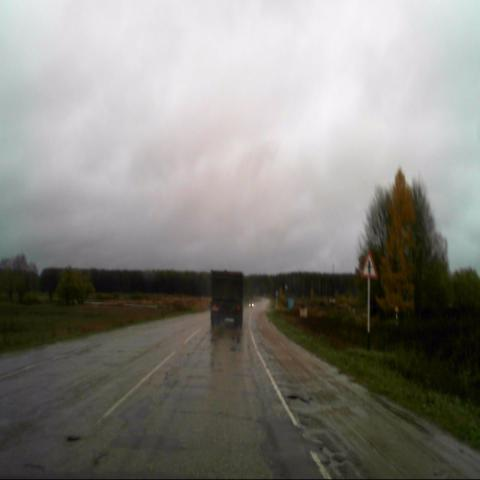2_3: (361, 253, 378, 279)
